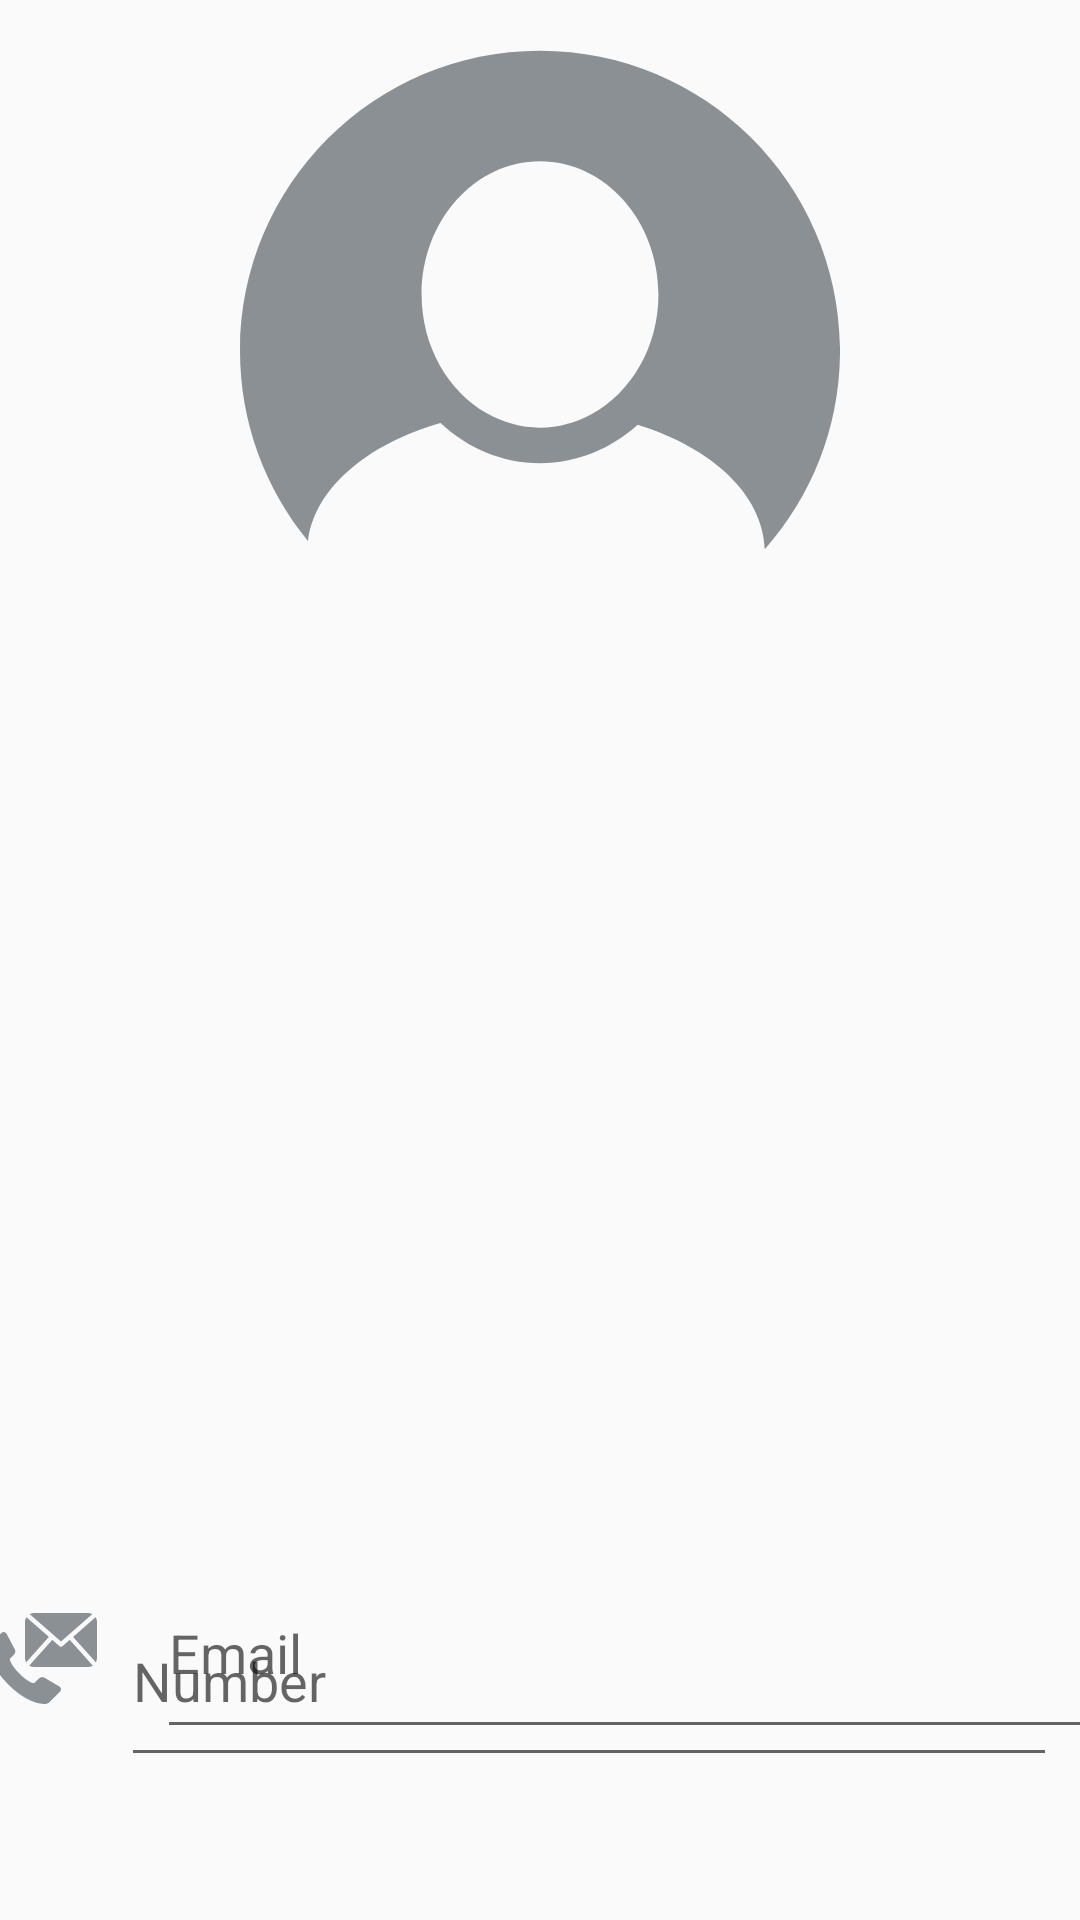

Icon click points for this 1080*1920 phone screenshot, format (x=x, y=y):
mail field: (x=61, y=1640)
